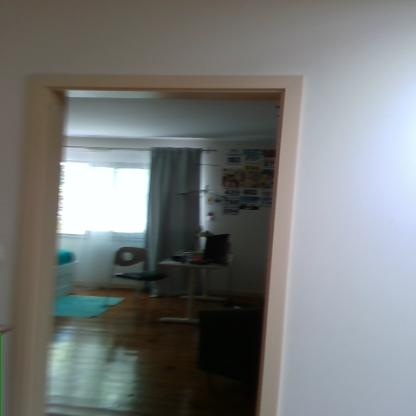open: (8, 69, 308, 416)
